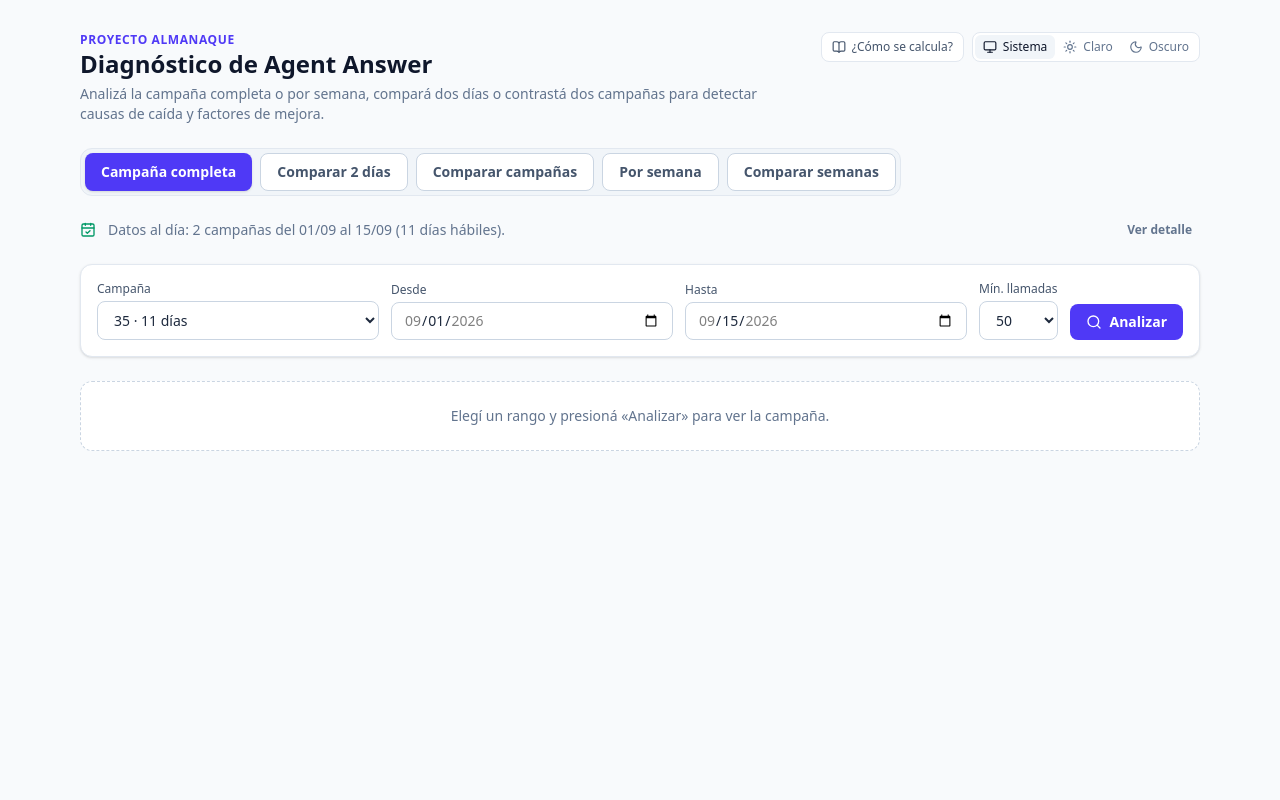
it: ModeTabs › activa el tab de comparar campañas y muestra su filtro
Click the tab with test id "tab-campaigns" at (505, 172), box [416,153,594,191]
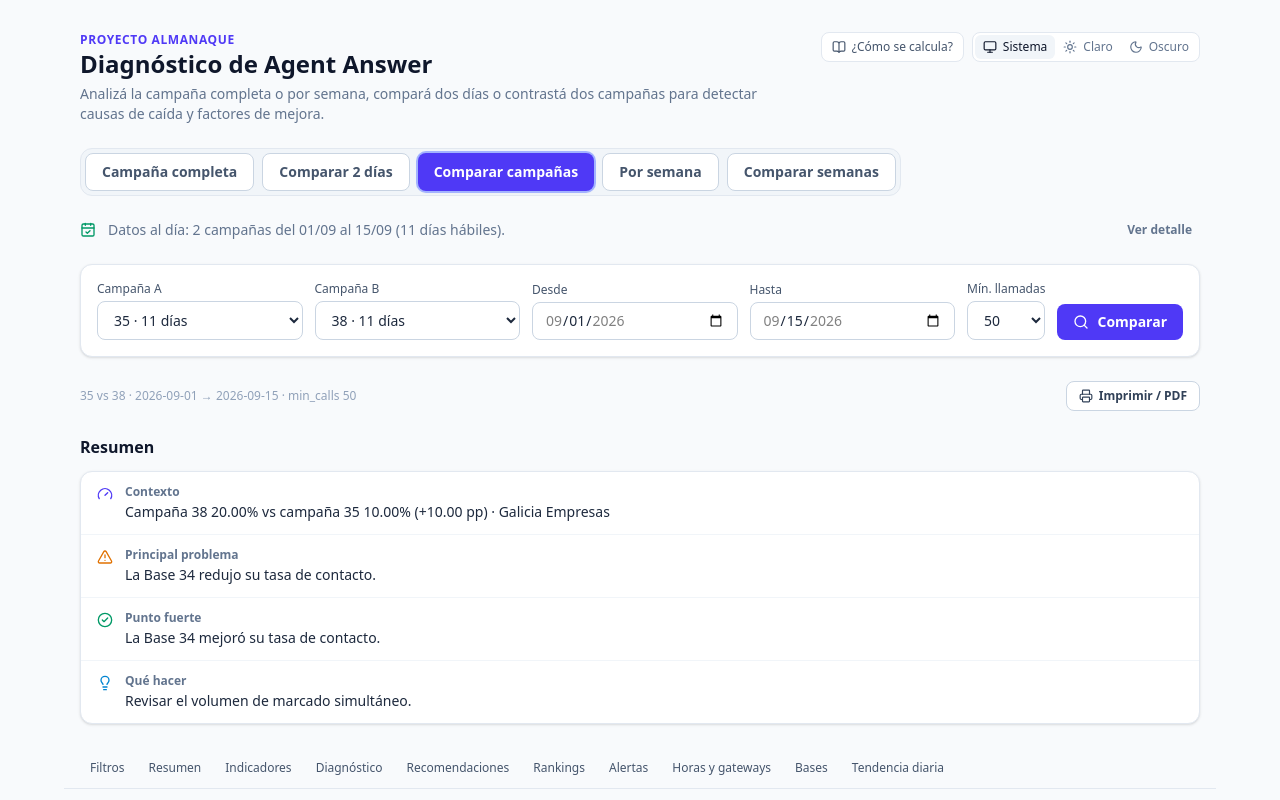
expect the dropdown labelled "Campaña A" shows "35 · 11 días": met, box [97,301,302,340]
expect the form with test id "filter-cross-campaign" is shown: met, box [80,264,1200,357]
expect the dropdown labelled "Campaña B" shows "38 · 11 días": met, box [314,301,520,340]
